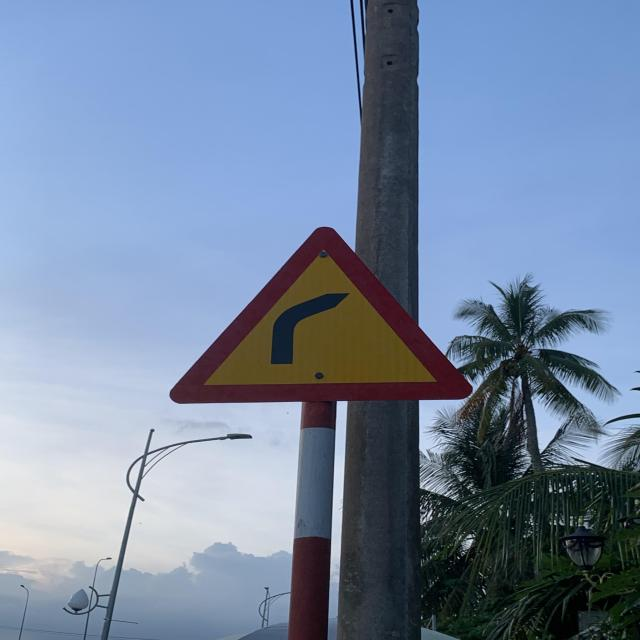Duong_Nguoi_Di_Bo_Cat_Ngang: (167, 224, 470, 400)
